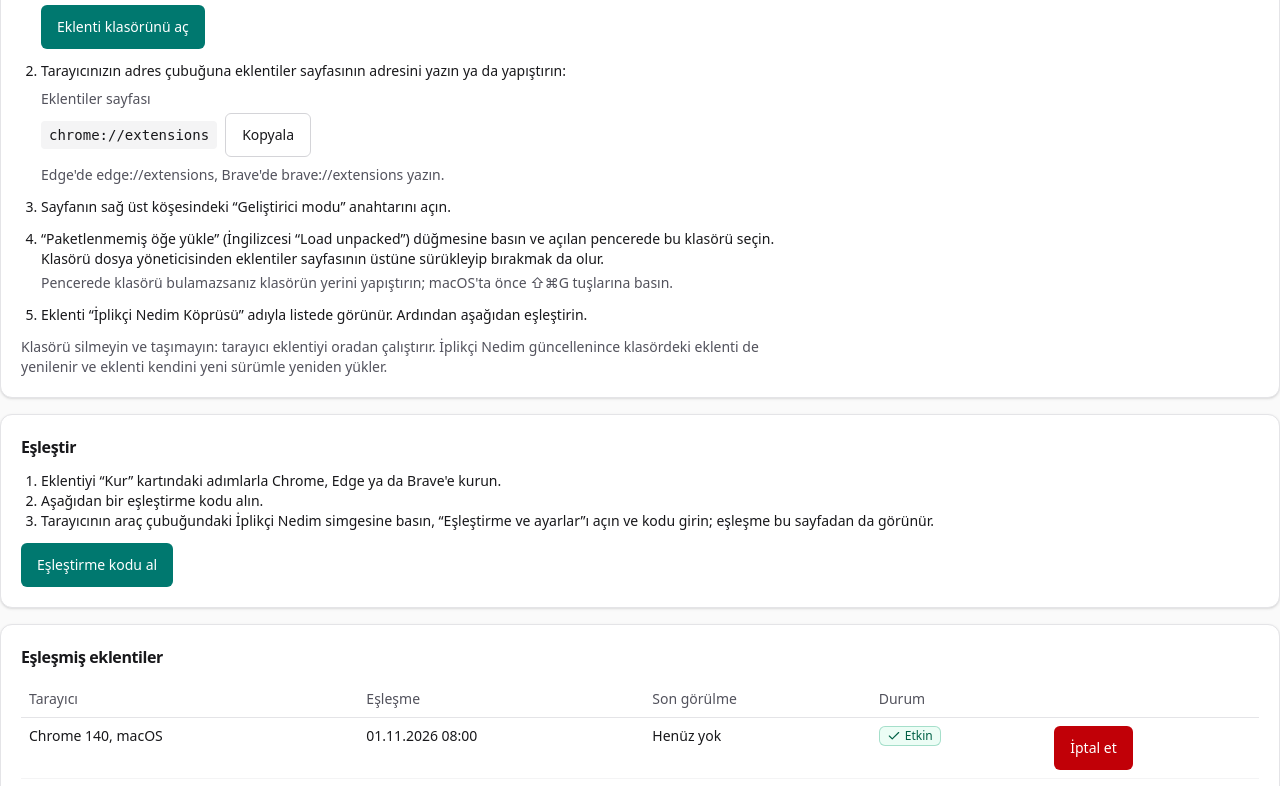
Scenario: ExtensionPage › shows a one-time pairing code with its time to live
The width and height of the screenshot is (1280, 786).
(page scrolled)
Click the button "Eşleştirme kodu al" at (97, 565), box left=21, top=543, right=173, bottom=587
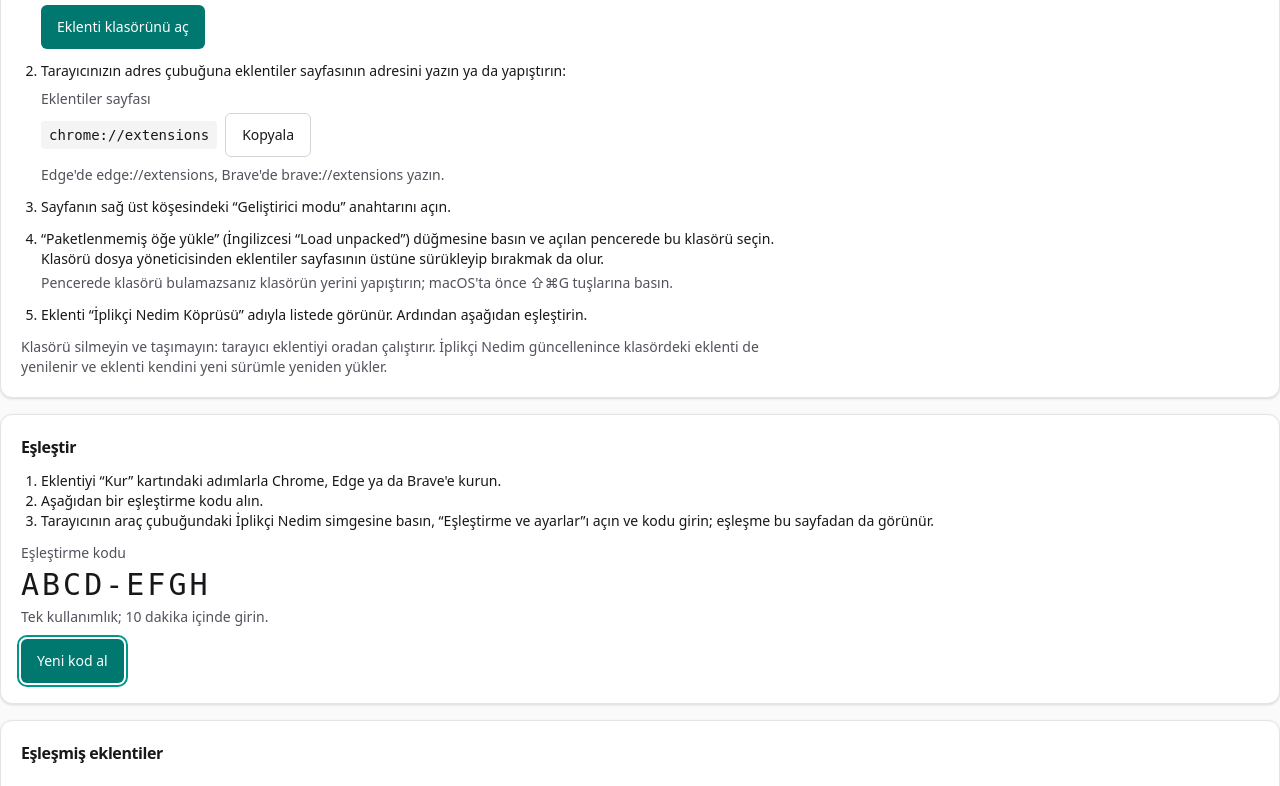
Expected: the text "ABCD-EFGH" is shown, left=21, top=567, right=211, bottom=602
Expected: the text "Tek kullanımlık; 10 dakika içinde girin." is shown, left=21, top=607, right=268, bottom=626
